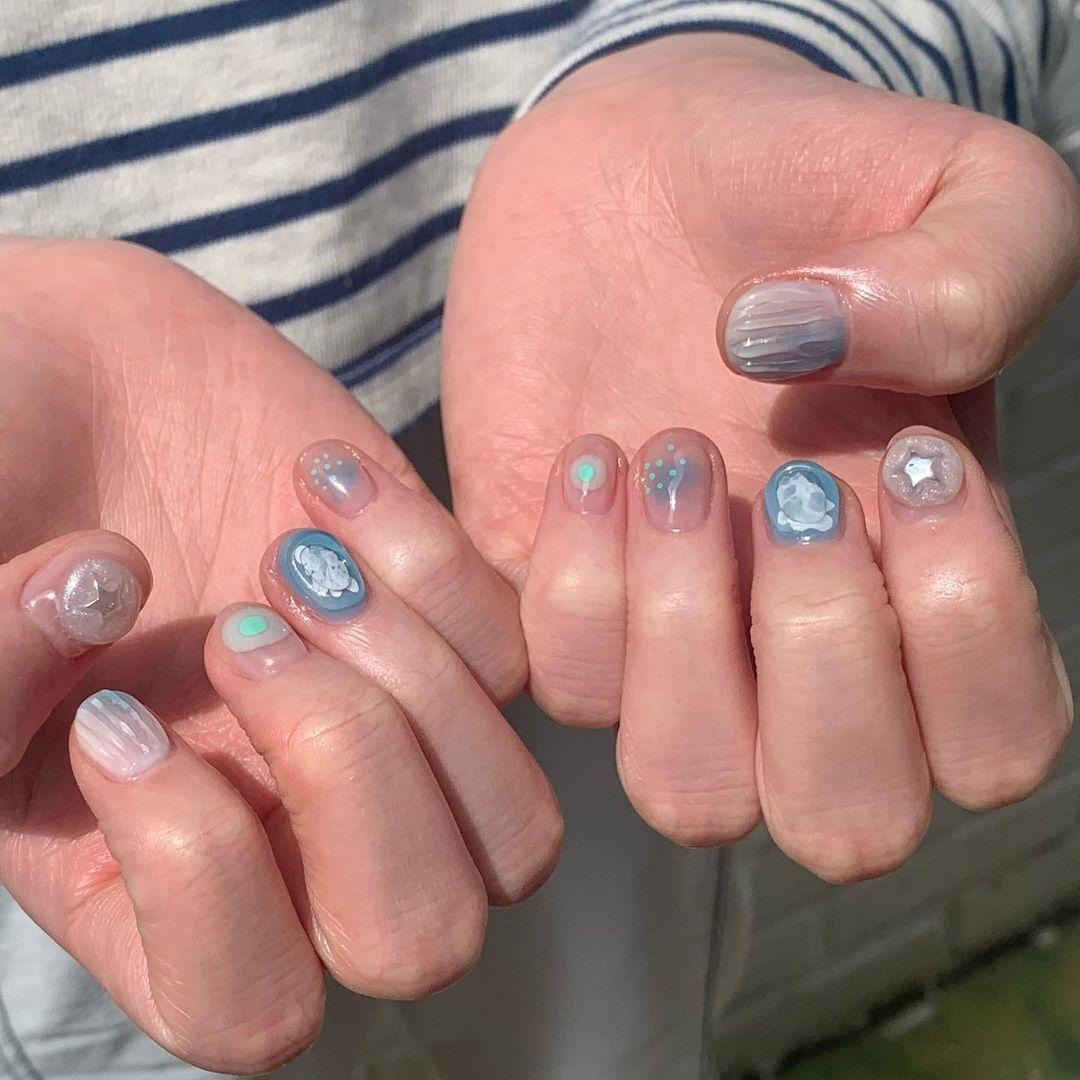nail: (717, 272, 850, 382), (19, 544, 144, 659), (70, 687, 172, 783), (635, 427, 715, 533), (274, 526, 367, 617), (291, 437, 377, 520), (762, 458, 843, 544), (879, 429, 964, 509), (558, 432, 622, 515), (217, 601, 290, 653)
